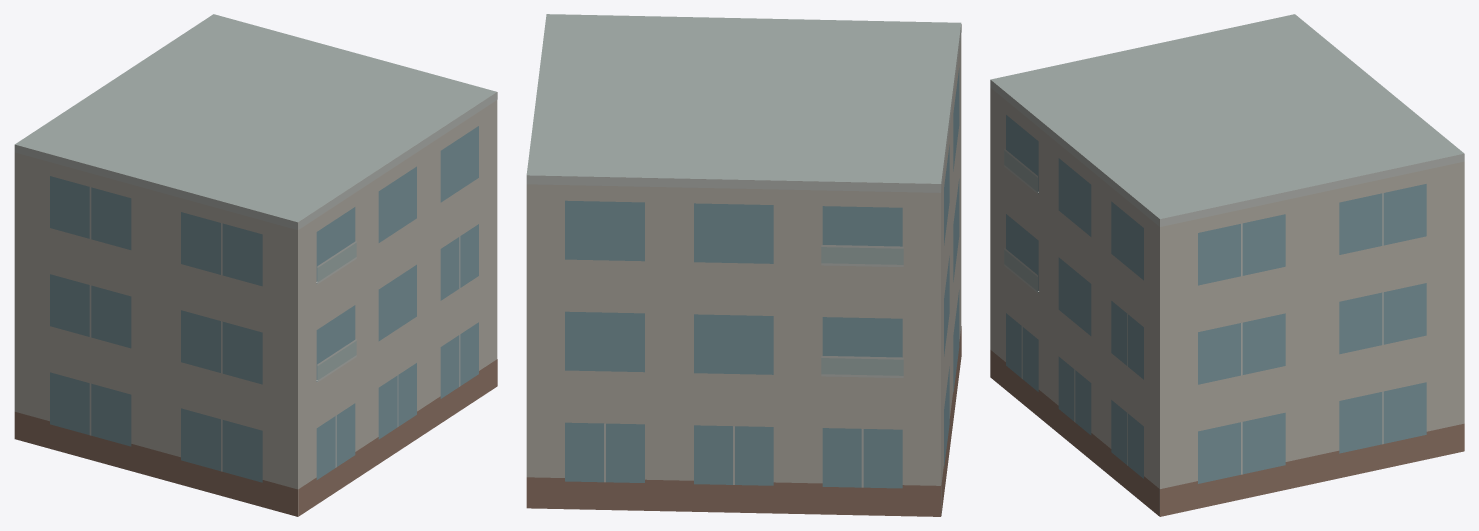
The model's file is survey-upis-32834854.glb.
3 renders of one model, left to right at view 1: azimuth 30°, elevation 25°; view 2: azimuth 150°, elevation 25°; view 3: azimuth 270°, elevation 25°, orthographic. The views are drawn at different scales.
Parts seen in each view (by area): view 1: survey-upis-32834854.tmp; view 2: survey-upis-32834854.tmp; view 3: survey-upis-32834854.tmp.
Part boxes in pixels (box(x1,y1,x2,y2)): survey-upis-32834854.tmp: box(14, 14, 497, 516); survey-upis-32834854.tmp: box(526, 14, 961, 516); survey-upis-32834854.tmp: box(990, 14, 1464, 516).
Bounding box in the file's own units: 13.53 × 9.15 × 13.22.
